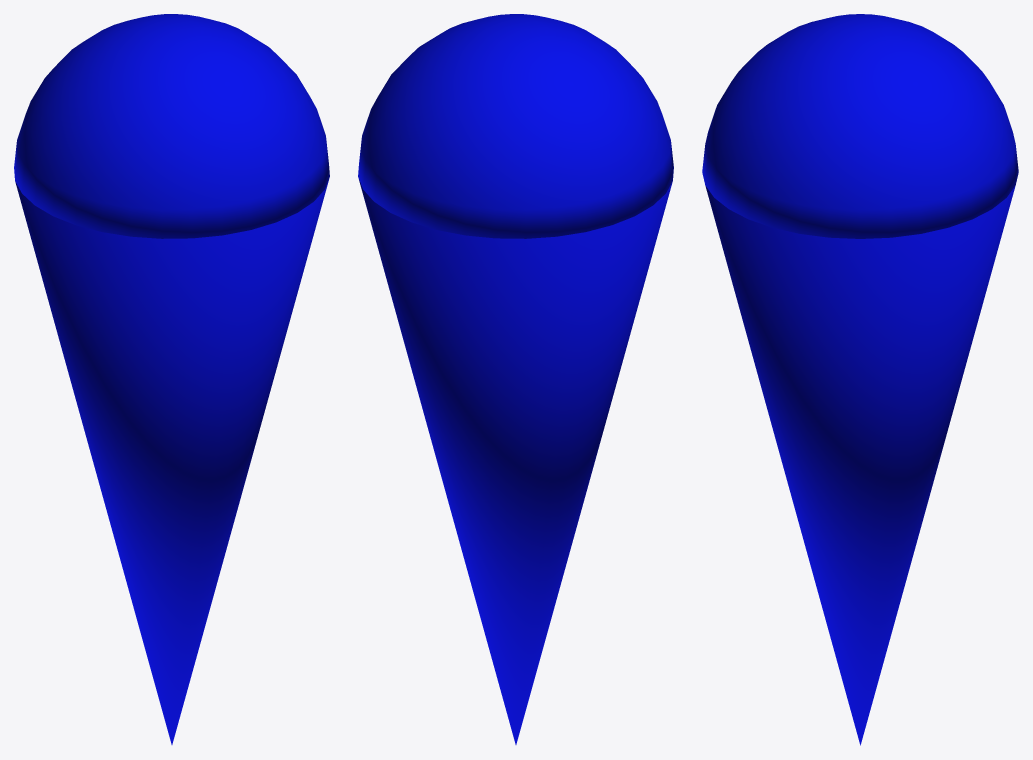
File: Rain.fbx
3 views of the same model, side by side, from view 1: azimuth 30°, elevation 25°; view 2: azimuth 150°, elevation 25°; view 3: azimuth 270°, elevation 25° (orthographic).
Visible parts, largest first — view 1: Cone, Sphere; view 2: Cone, Sphere; view 3: Cone, Sphere.
Boxes of the visible parts, x1,y1,x2,y2 form: Cone: (15,179,328,744); Sphere: (14,14,329,238); Cone: (359,179,672,744); Sphere: (358,14,673,238); Cone: (705,186,1015,745); Sphere: (702,14,1018,238).
Size of the model in its own units: 100 by 250 by 100.
